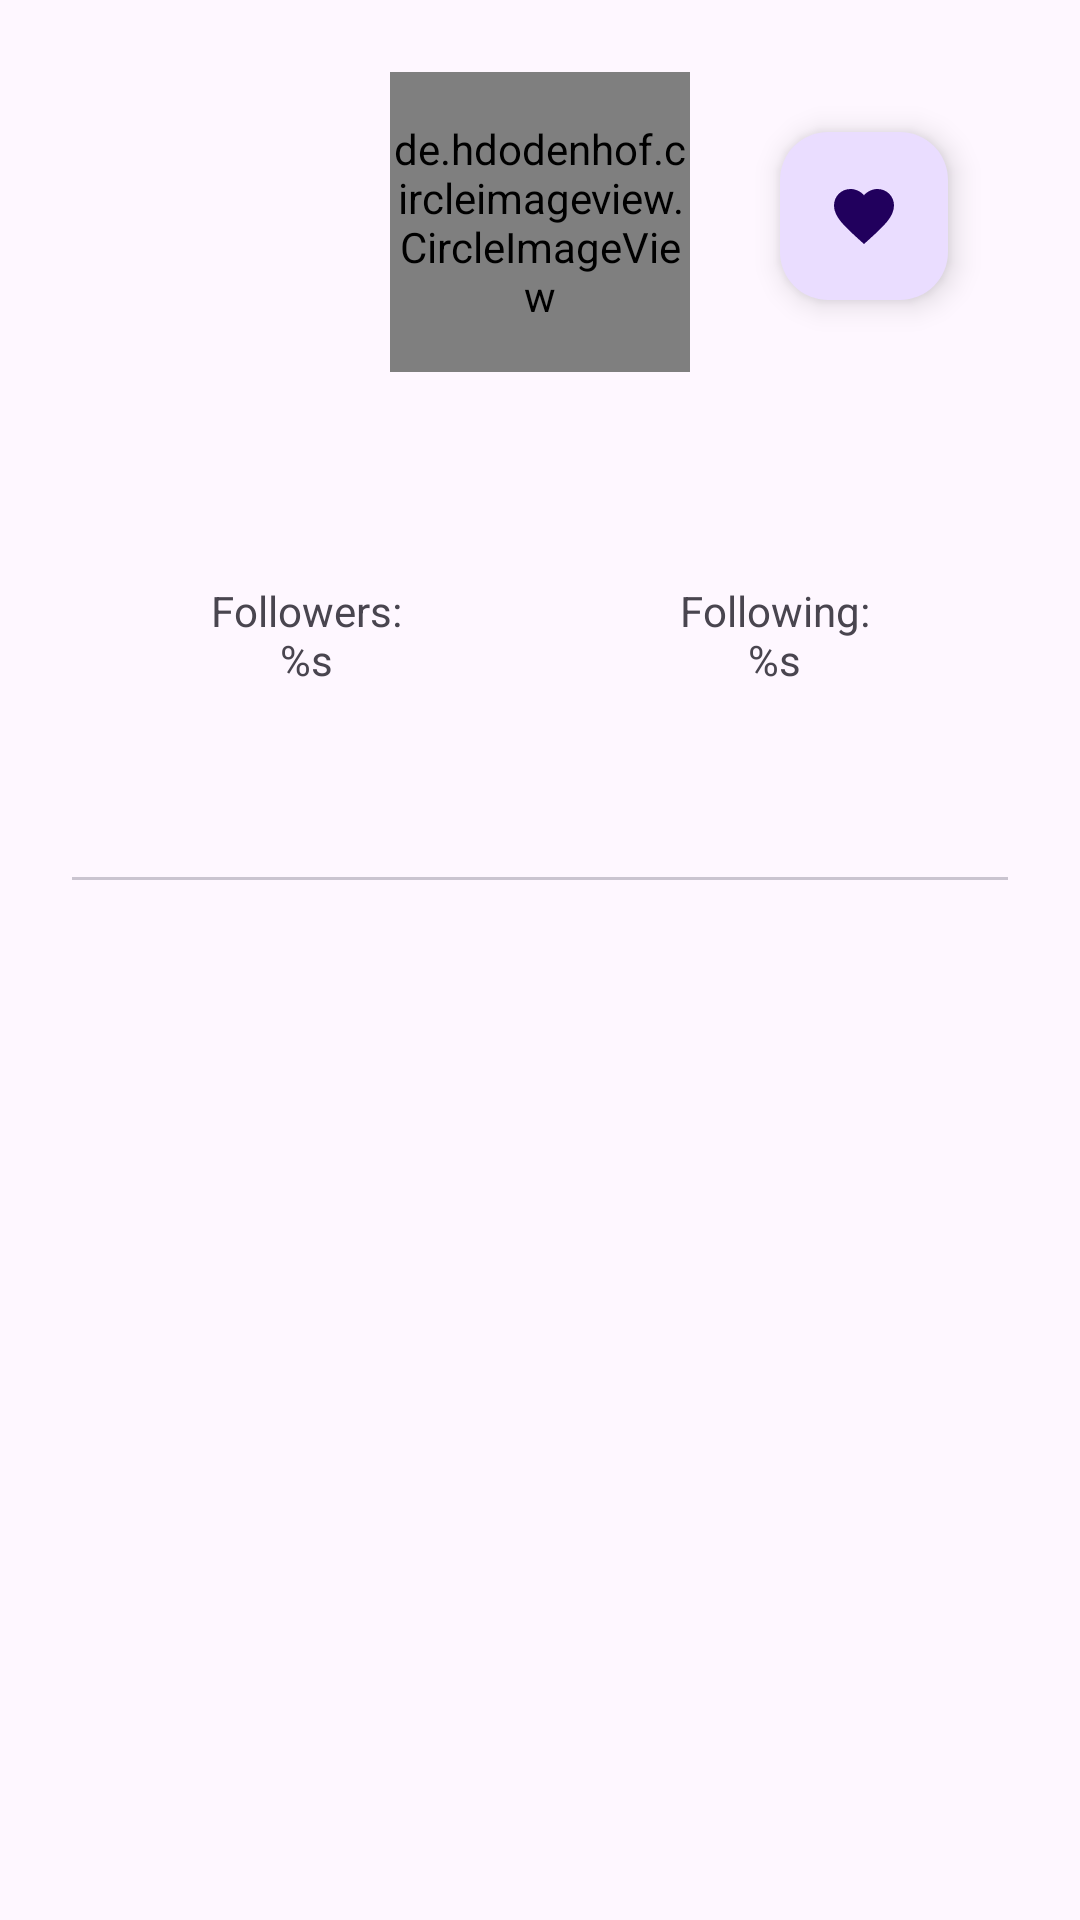

Point at icon controls on the screen. Image size 1080 × 1920, points as point (x, y).
favorite: point (864, 216)
